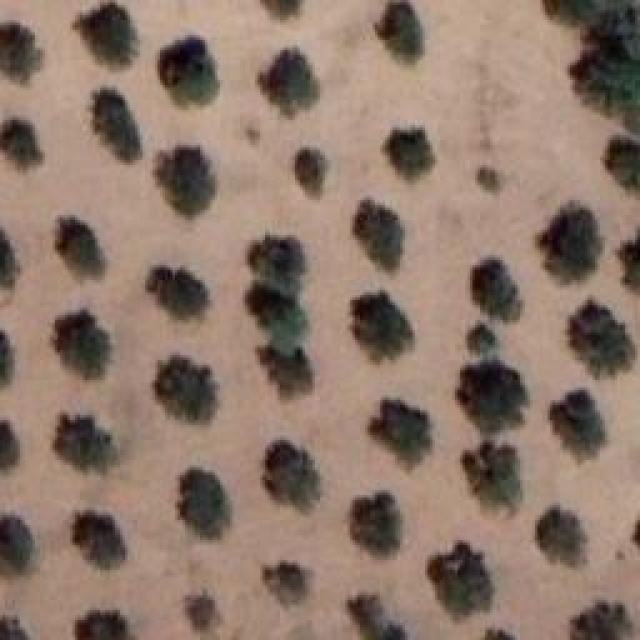Tree: (543, 0, 640, 133), (455, 360, 528, 435), (538, 203, 603, 284), (570, 300, 636, 378), (423, 543, 491, 618), (260, 438, 323, 513), (350, 290, 414, 362), (465, 437, 529, 509), (153, 355, 218, 423), (155, 145, 216, 217), (73, 3, 138, 70), (158, 35, 219, 106), (243, 283, 308, 349), (258, 47, 319, 116), (53, 310, 112, 380), (550, 390, 606, 462), (370, 0, 432, 63), (345, 495, 402, 562), (370, 400, 430, 463), (93, 88, 143, 163), (530, 510, 589, 573), (353, 200, 404, 272), (50, 413, 116, 465), (178, 468, 228, 536), (253, 235, 307, 297), (68, 510, 123, 570), (148, 268, 211, 319), (473, 260, 524, 322), (340, 592, 405, 640), (58, 218, 108, 280), (255, 350, 316, 400), (265, 547, 311, 606), (383, 130, 436, 180), (0, 24, 42, 84), (180, 590, 236, 634), (3, 115, 44, 175), (0, 512, 33, 586), (565, 602, 628, 640), (605, 138, 640, 191), (73, 605, 124, 640), (295, 148, 329, 198), (617, 227, 640, 287), (0, 420, 23, 479), (250, 0, 303, 25), (465, 323, 496, 361), (0, 230, 20, 288), (475, 163, 507, 197), (0, 330, 13, 385), (0, 615, 26, 639)
